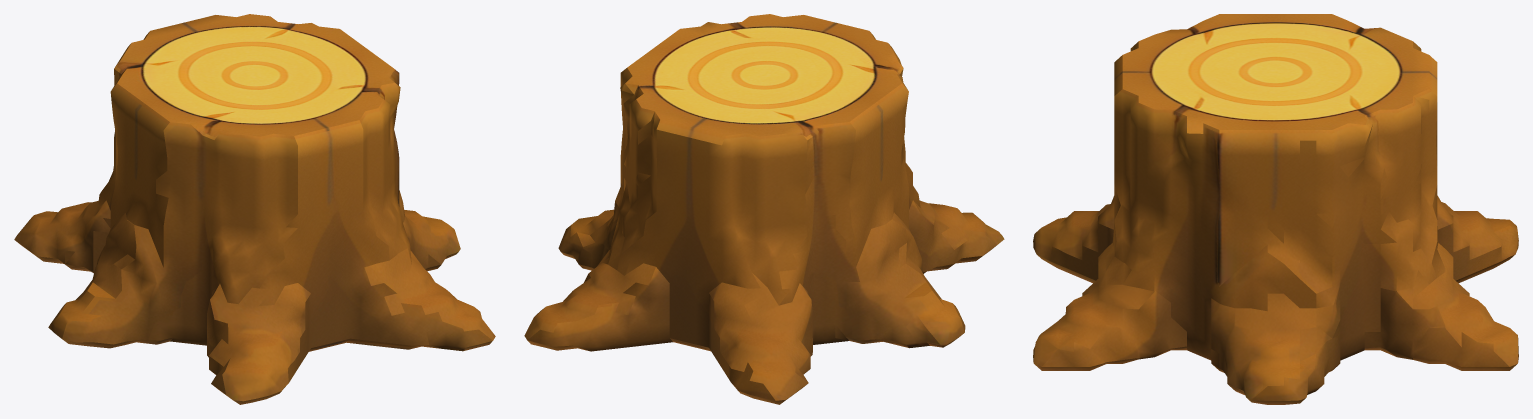
The model's file is tree_stump_3.glb.
3 views of the same model, side by side, from view 1: azimuth 30°, elevation 25°; view 2: azimuth 150°, elevation 25°; view 3: azimuth 270°, elevation 25° (orthographic). The views are drawn at different scales.
Visible parts, largest first — view 1: tmpm3iqgq3u.ply; view 2: tmpm3iqgq3u.ply; view 3: tmpm3iqgq3u.ply.
Boxes of the visible parts, box(x1,y1,x2,y2) form: tmpm3iqgq3u.ply: box(14, 14, 495, 404); tmpm3iqgq3u.ply: box(524, 14, 1004, 404); tmpm3iqgq3u.ply: box(1033, 14, 1518, 404).
Bounding box in the file's own units: 1.84 × 0.98 × 1.84.
Materials: 1 (1 with a texture image).
